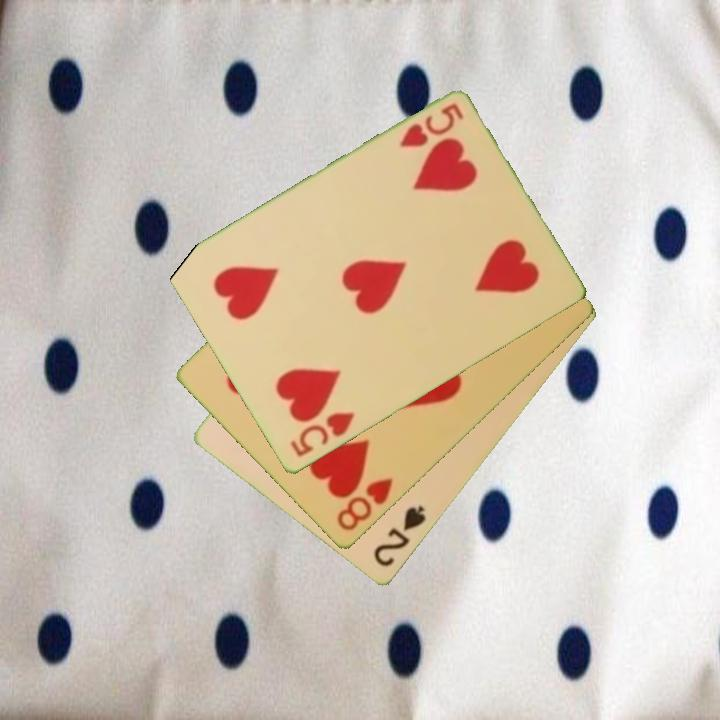2s: (370, 503, 429, 570)
5h: (286, 409, 358, 461), (396, 100, 466, 151)
8h: (333, 475, 396, 534)
